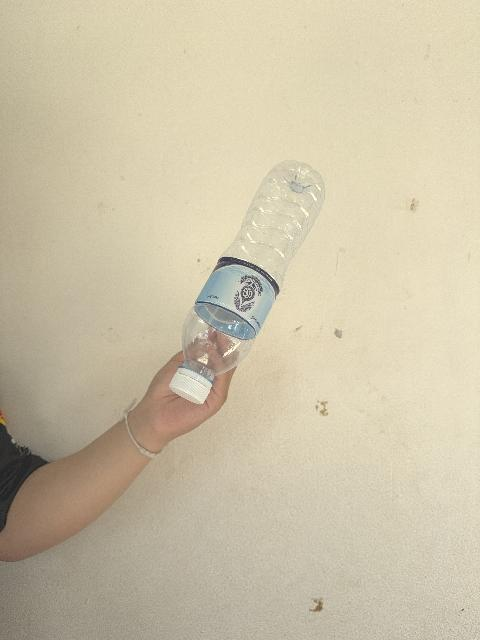bottle: (169, 161, 323, 404)
